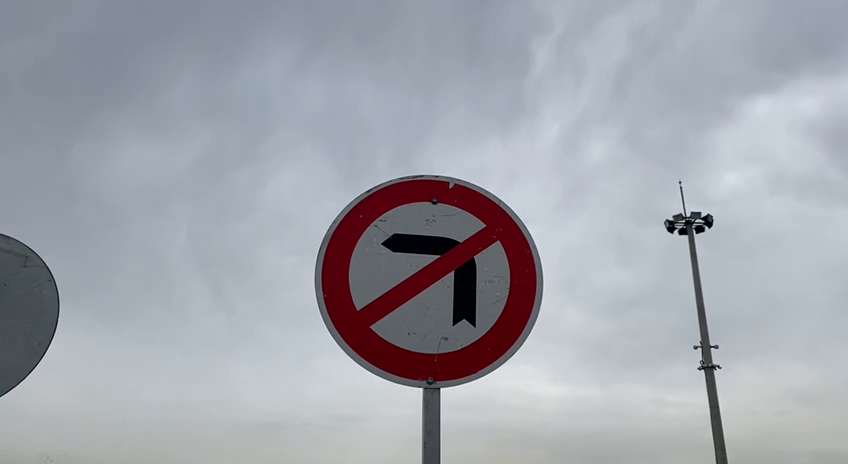noTurnLeft: (312, 172, 545, 390)
